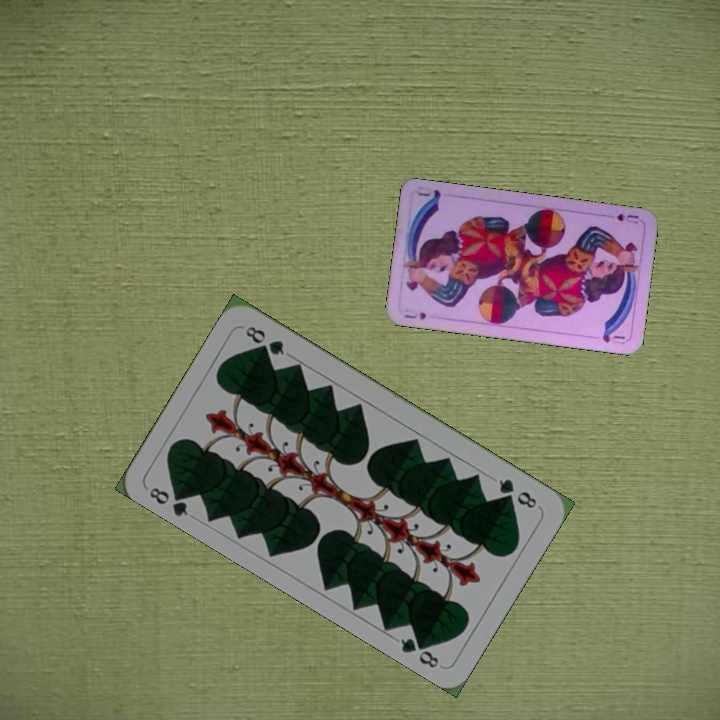G8: (145, 483, 192, 519), (494, 475, 540, 511)
SU: (400, 305, 429, 322), (612, 210, 641, 227)
